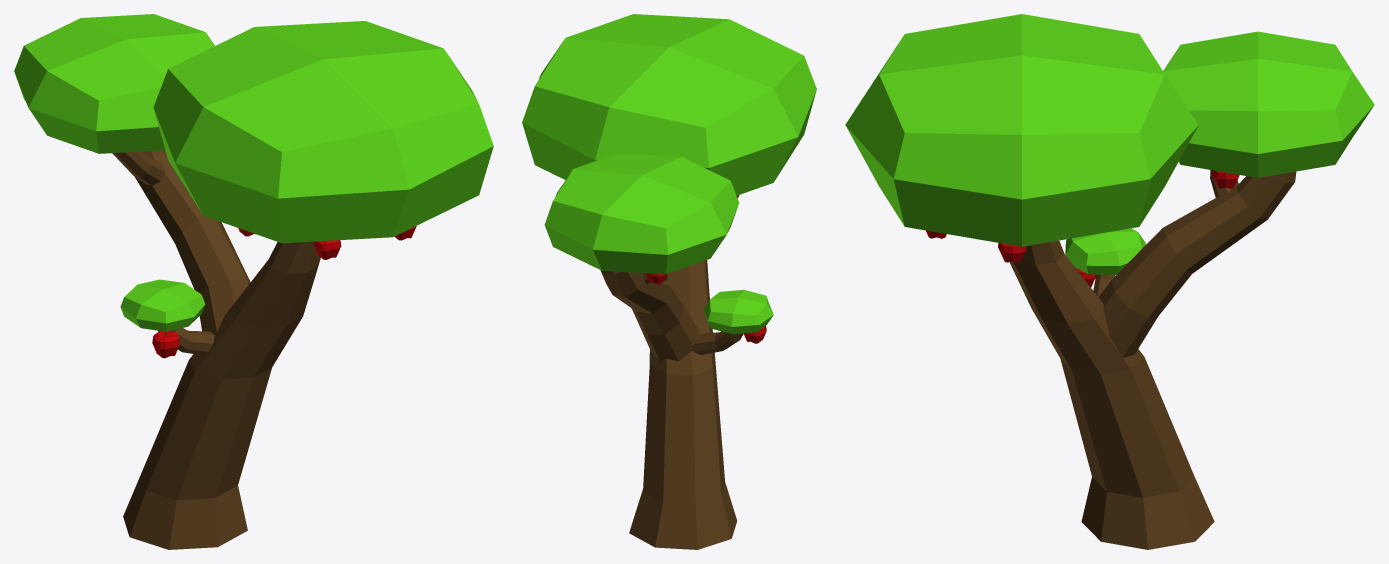
The model's file is Apple boom 1.fbx.
3 renders of one model, left to right at view 1: azimuth 30°, elevation 25°; view 2: azimuth 150°, elevation 25°; view 3: azimuth 270°, elevation 25°, orthographic. The views are drawn at different scales.
Parts seen in each view (by area): view 1: Apple boom 1, Appel.010; view 2: Apple boom 1; view 3: Apple boom 1.
Part boxes in pixels (x1,y1,x2,y2): Apple boom 1: [14, 14, 493, 549]; Appel.010: [152, 331, 179, 358]; Apple boom 1: [522, 14, 816, 549]; Apple boom 1: [845, 14, 1374, 549].
Bounding box in the file's own units: 3.52 × 5 × 4.75.
